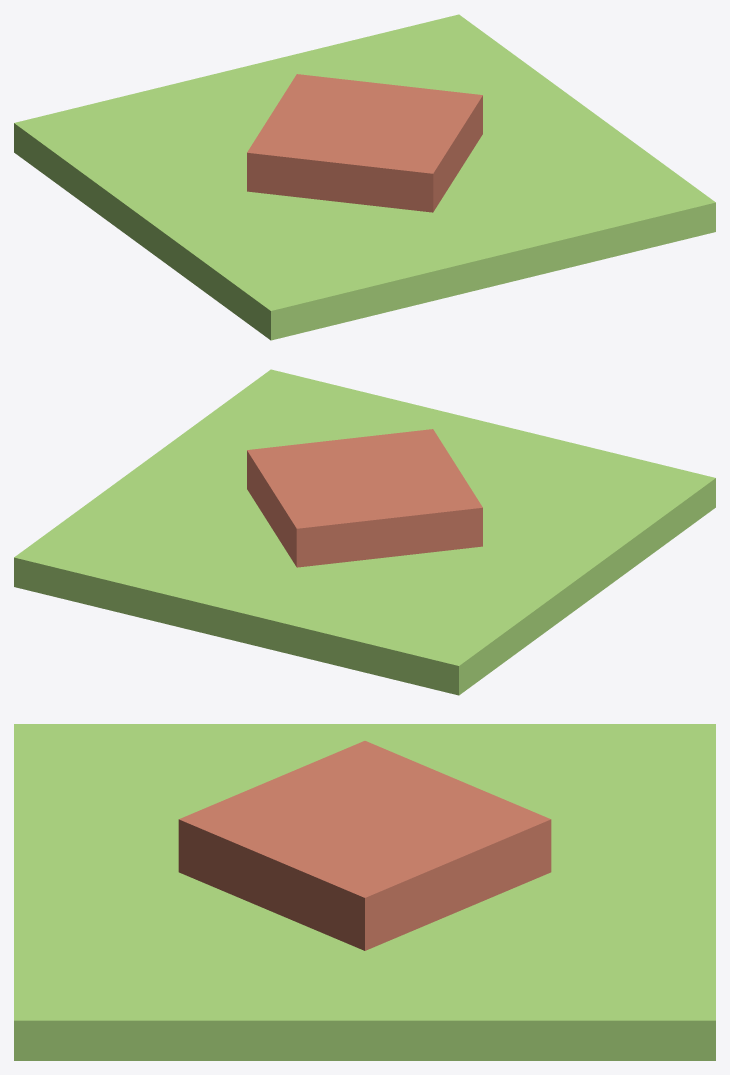
Rendered from Obstacle_diamond_01.glb.
3 renders of one model, top to bottom at view 1: azimuth 30°, elevation 25°; view 2: azimuth 150°, elevation 25°; view 3: azimuth 270°, elevation 25°, orthographic. The views are drawn at different scales.
Visible parts, largest first — view 1: Mesh1 Obstacle_diamond Model; view 2: Mesh1 Obstacle_diamond Model; view 3: Mesh1 Obstacle_diamond Model.
Part boxes in pixels (bbox=[...]): Mesh1 Obstacle_diamond Model: bbox=[14, 14, 715, 340]; Mesh1 Obstacle_diamond Model: bbox=[14, 369, 715, 695]; Mesh1 Obstacle_diamond Model: bbox=[14, 724, 715, 1060].
Bounding box in the file's own units: 3 × 0.44 × 3.
